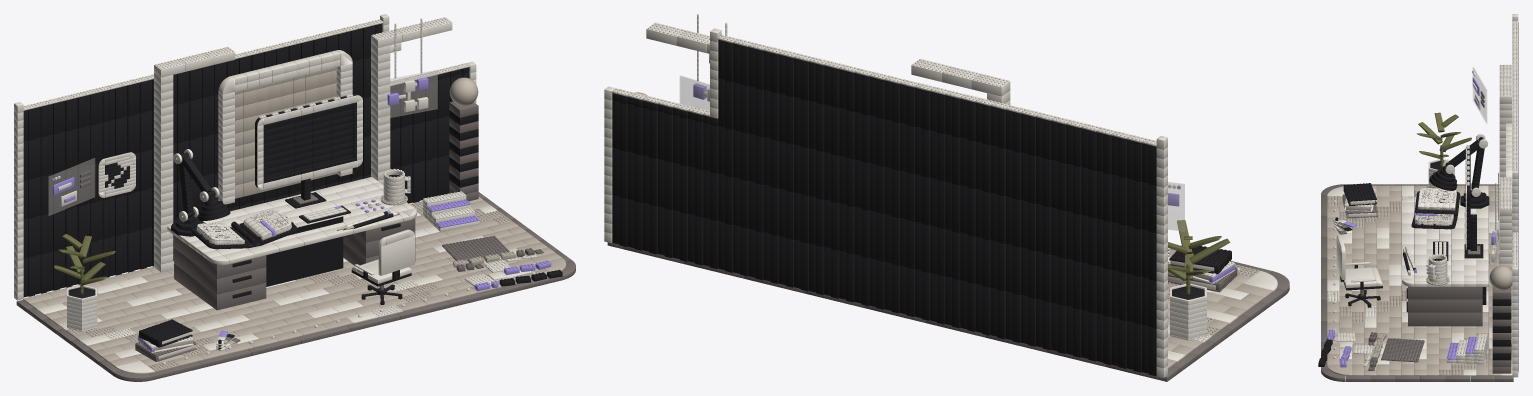
The model's file is nexxo_studio_static.glb.
The picture shows the model from 3 angles, left to right: view 1: azimuth 30°, elevation 25°; view 2: azimuth 150°, elevation 25°; view 3: azimuth 270°, elevation 25°; orthographic projection. The views are drawn at different scales.
Parts seen in each view (by area): view 1: ENVIRONMENT__ABS_graphite, ENVIRONMENT__ABS_ivory, ENVIRONMENT__ABS_sand, ENVIRONMENT__ABS_warm_grey, INTERACTIVE_COMPUTER__ABS_graphite, DECOR__ABS_ivory, ENVIRONMENT__Glass, SCREEN_SURFACE, INTERACTIVE_LAMP__ABS_graphite, INTERACTIVE_COMPUTER__ABS_ivory, DECOR__ABS_graphite, INTERACTIVE_NOTEBOOK__ABS_ivory (+8 smaller); view 2: ENVIRONMENT__ABS_graphite, ENVIRONMENT__ABS_ivory, ENVIRONMENT__ABS_warm_grey, ENVIRONMENT__ABS_sand, DECOR__ABS_ivory, ENVIRONMENT__Glass, DECOR__ABS_olive, DECOR__ABS_graphite; view 3: ENVIRONMENT__ABS_ivory, ENVIRONMENT__ABS_sand, ENVIRONMENT__ABS_warm_grey, DECOR__ABS_ivory, INTERACTIVE_LAMP__ABS_graphite, DECOR__ABS_graphite, ENVIRONMENT__ABS_graphite, INTERACTIVE_NOTEBOOK__ABS_ivory, INTERACTIVE_BRICKS__ABS_warm_grey, DECOR__ABS_olive, INTERACTIVE_COMPUTER__ABS_graphite, INTERACTIVE_NOTEBOOK__ABS_graphite (+10 smaller).
Boxes of the visible parts, x1,y1,x2,y2 form: ENVIRONMENT__ABS_graphite: (23,23,478,298); ENVIRONMENT__ABS_ivory: (14,14,535,373); ENVIRONMENT__ABS_sand: (23,67,566,372); ENVIRONMENT__ABS_warm_grey: (16,101,575,381); INTERACTIVE_COMPUTER__ABS_graphite: (255,93,359,208); DECOR__ABS_ivory: (67,168,414,358); ENVIRONMENT__Glass: (48,70,437,215); SCREEN_SURFACE: (256,216,343,286); INTERACTIVE_LAMP__ABS_graphite: (97,152,230,236); INTERACTIVE_COMPUTER__ABS_ivory: (257,93,362,189); DECOR__ABS_graphite: (68,205,411,349); INTERACTIVE_NOTEBOOK__ABS_ivory: (196,209,291,243); ENVIRONMENT__ABS_graphite: (612,40,1156,376); ENVIRONMENT__ABS_ivory: (604,14,1277,377); ENVIRONMENT__ABS_warm_grey: (607,242,1289,381); ENVIRONMENT__ABS_sand: (635,92,1272,368); DECOR__ABS_ivory: (1168,248,1234,340); ENVIRONMENT__Glass: (680,75,1184,231); DECOR__ABS_olive: (1168,220,1230,294); DECOR__ABS_graphite: (1168,245,1231,299); ENVIRONMENT__ABS_ivory: (1327,14,1518,377); ENVIRONMENT__ABS_sand: (1327,185,1512,375); ENVIRONMENT__ABS_warm_grey: (1321,91,1513,381); DECOR__ABS_ivory: (1333,159,1454,288); INTERACTIVE_LAMP__ABS_graphite: (1429,137,1489,208); DECOR__ABS_graphite: (1335,161,1448,307); ENVIRONMENT__ABS_graphite: (1406,22,1518,371); INTERACTIVE_NOTEBOOK__ABS_ivory: (1415,188,1456,224); INTERACTIVE_BRICKS__ABS_warm_grey: (1368,332,1424,370); DECOR__ABS_olive: (1417,112,1471,166); INTERACTIVE_COMPUTER__ABS_graphite: (1464,147,1483,258); INTERACTIVE_NOTEBOOK__ABS_graphite: (1411,191,1460,229).
Size of what is drawn, in the model's own units: 11.85 by 5.14 by 5.15.
